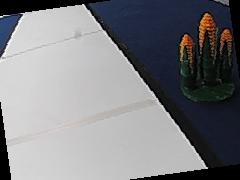corn: (174, 4, 236, 102)
